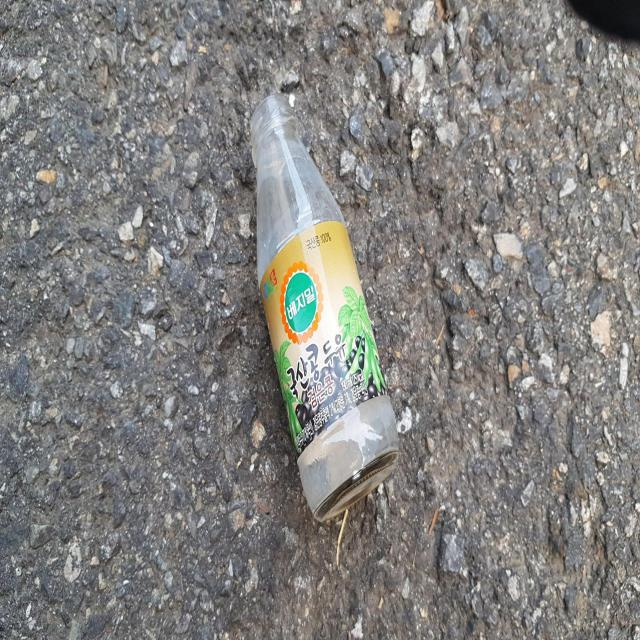glass: (251, 94, 399, 520)
